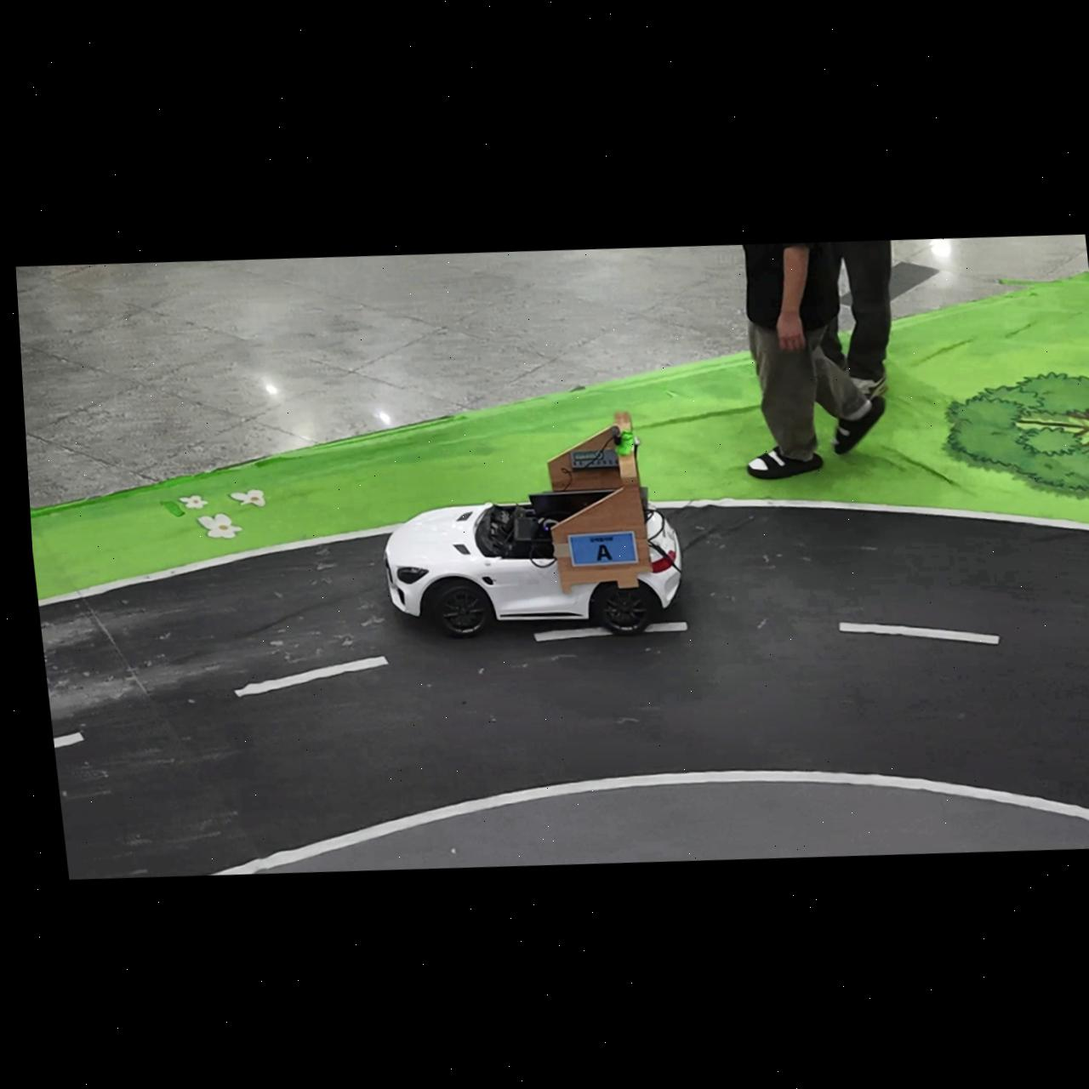broken_line: (234, 656, 389, 697), (838, 621, 999, 643), (534, 626, 613, 641), (53, 732, 84, 748), (642, 622, 687, 632)
